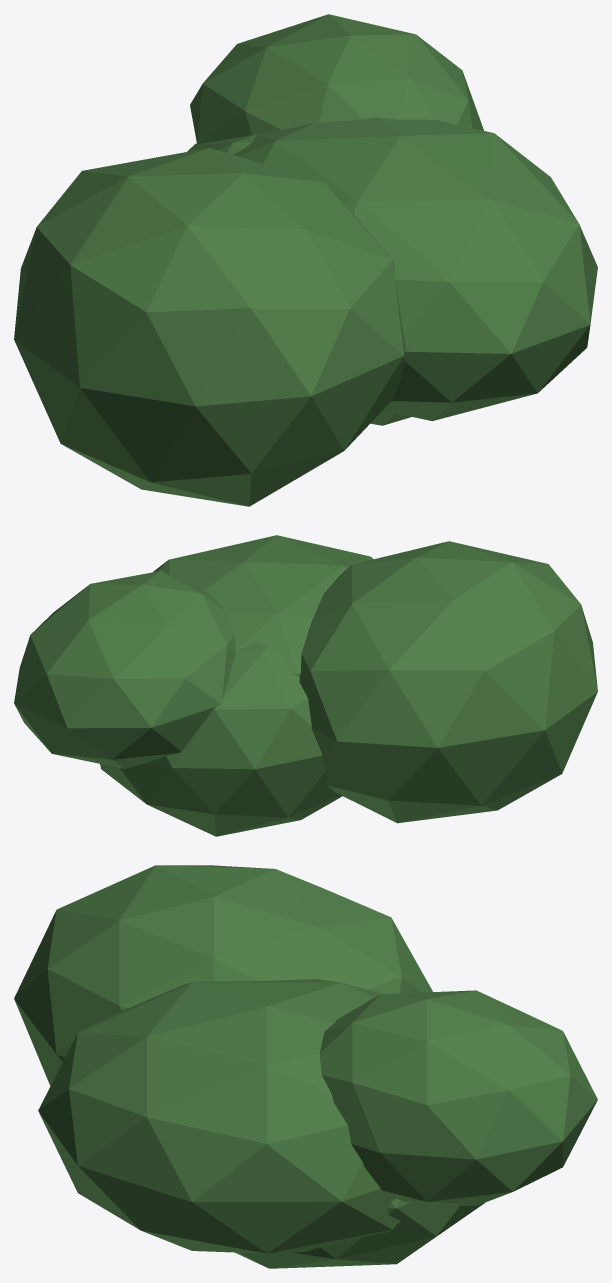
The model's file is bush.glb.
3 views of the same model, one above another, from view 1: azimuth 30°, elevation 25°; view 2: azimuth 150°, elevation 25°; view 3: azimuth 270°, elevation 25° (orthographic). The views are drawn at different scales.
Parts seen in each view (by area): view 1: Foliage; view 2: Foliage; view 3: Foliage.
Boxes of the visible parts, x1,y1,x2,y2 form: Foliage: [14, 14, 597, 506]; Foliage: [14, 535, 597, 836]; Foliage: [14, 865, 597, 1268].
Bounding box in the file's own units: 1.05 × 0.5788 × 1.07.
